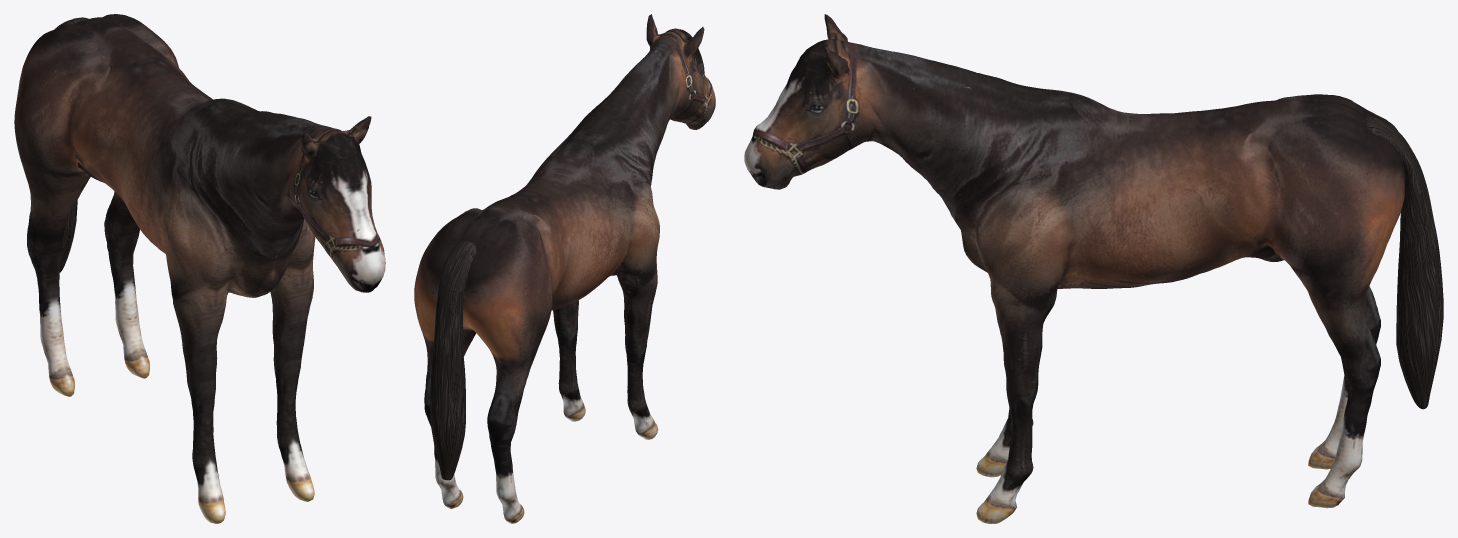
Rendered from horse.glb.
3 views of the same model, side by side, from view 1: azimuth 30°, elevation 25°; view 2: azimuth 150°, elevation 25°; view 3: azimuth 270°, elevation 25° (orthographic). The views are drawn at different scales.
Parts seen in each view (by area): view 1: Mesh_0.002_Material.001_0, Plane.001; view 2: Mesh_0.002_Material.001_0, Plane.001; view 3: Mesh_0.002_Material.001_0, Plane.001.
Boxes of the visible parts, x1,y1,x2,y2 form: Mesh_0.002_Material.001_0: (14,14,385,523); Plane.001: (54,17,88,272); Mesh_0.002_Material.001_0: (414,14,715,523); Plane.001: (430,241,476,480); Mesh_0.002_Material.001_0: (744,14,1404,523); Plane.001: (1364,116,1443,409).
Bounding box in the file's own units: 2.69 × 7.41 × 9.99.
2 materials, 2 textured.
